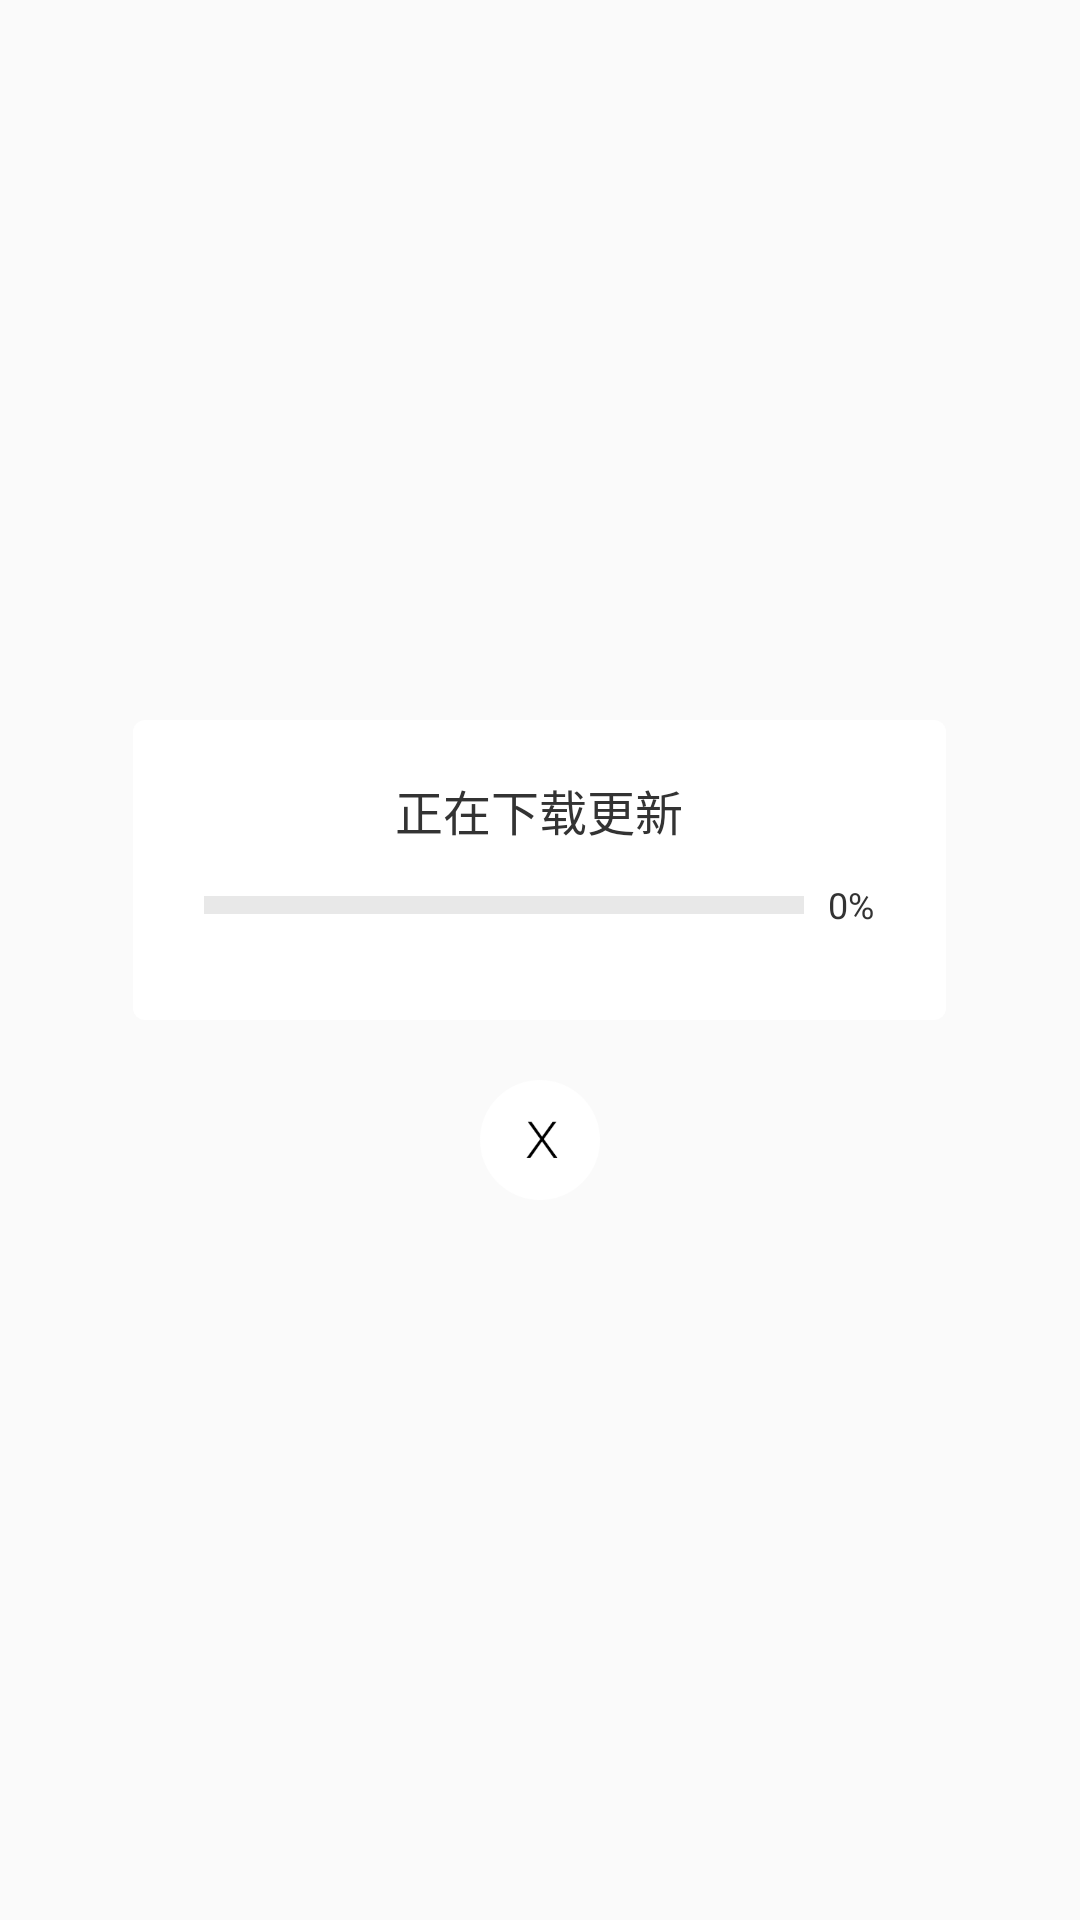

Icons on this 1080px x 1920px Android screen, each with the point to tap as point (x, y):
cha bai: point (541, 1139)
